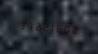one: (49, 20, 56, 34)
seven: (25, 17, 32, 32)
six: (57, 20, 64, 35)
three: (17, 17, 24, 31)
two: (33, 18, 40, 33), (41, 19, 48, 33), (73, 22, 80, 36)
zero: (65, 21, 72, 36)
